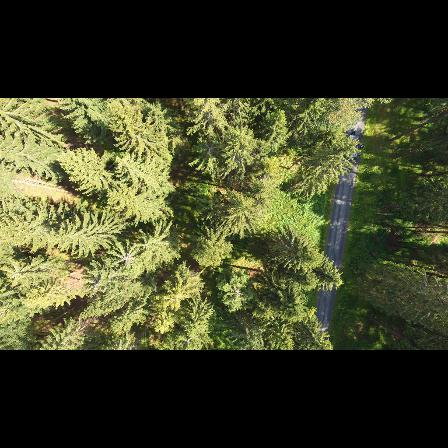Sick: (108, 245, 144, 271), (197, 134, 221, 160)
